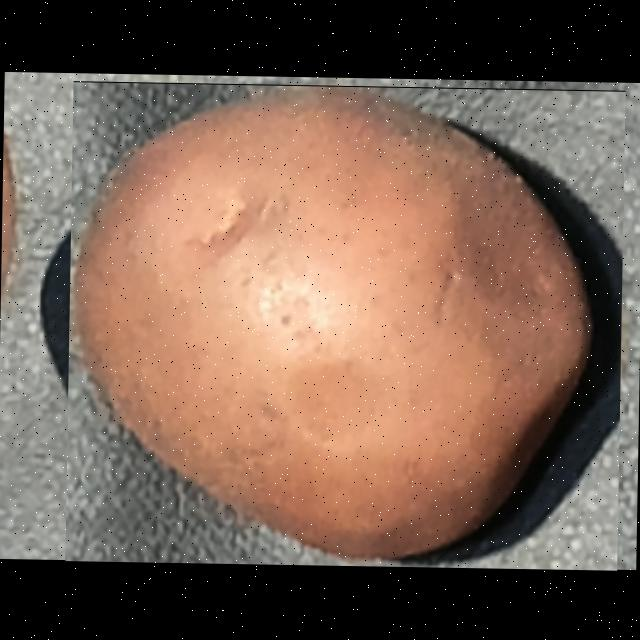Diseased-fungal potato: (65, 80, 625, 570)
